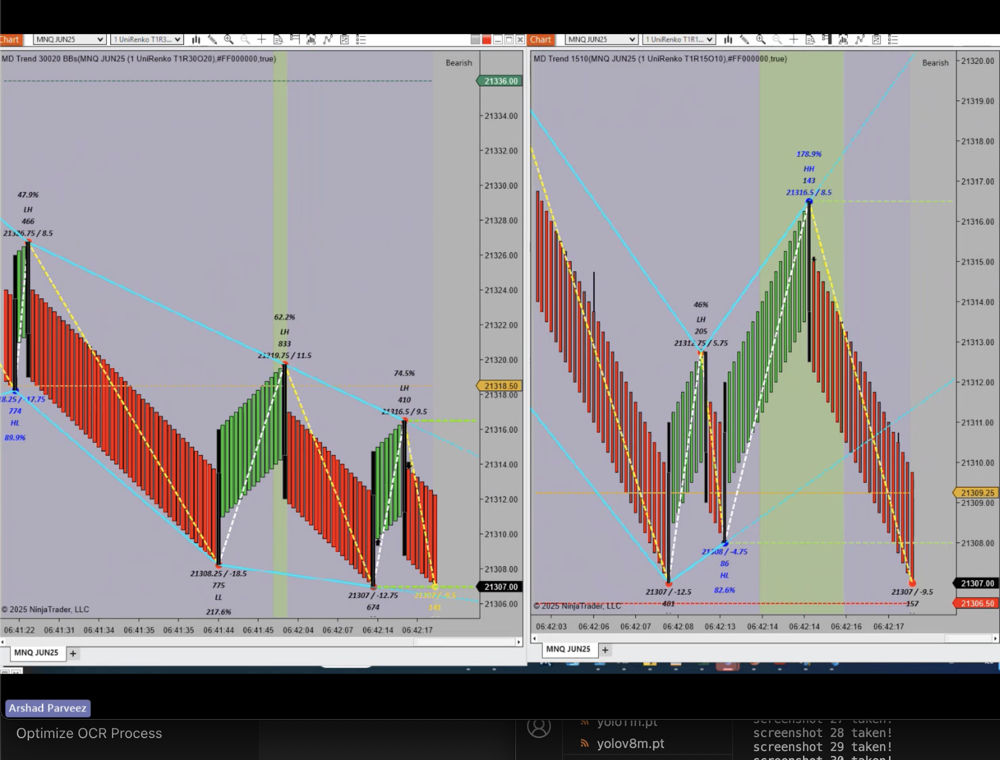HH: (800, 162, 819, 176)
HL: (4, 415, 26, 430), (715, 567, 734, 583)
LH: (395, 382, 415, 397), (691, 312, 711, 327), (276, 324, 294, 339), (19, 200, 36, 215)
LL: (210, 590, 227, 604)
